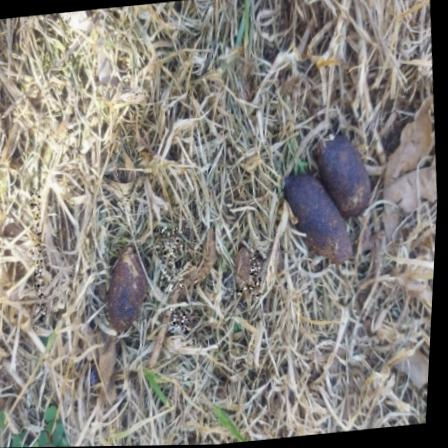dog-poop: (280, 138, 393, 277), (87, 255, 161, 336)
